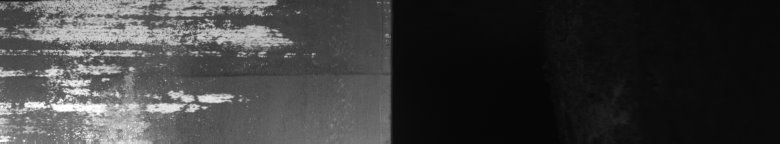kb: (4, 4, 316, 135)
